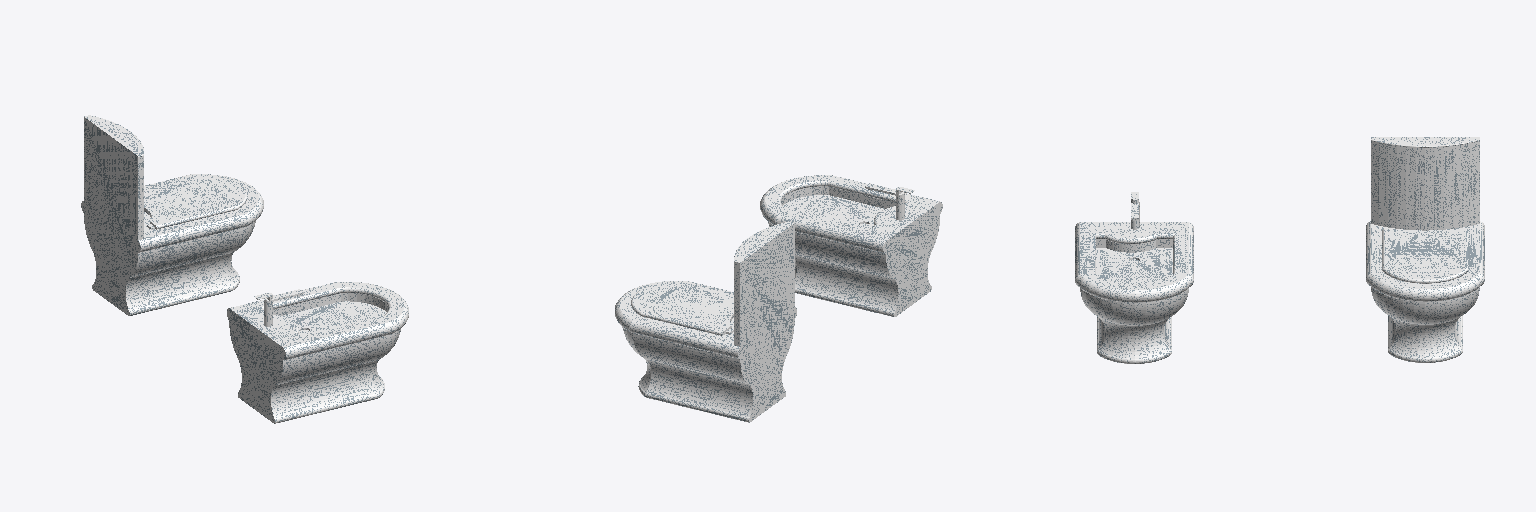
Rendered from gabinetto.obj.
The picture shows the model from 3 angles: view 1: azimuth 30°, elevation 25°; view 2: azimuth 150°, elevation 25°; view 3: azimuth 270°, elevation 25°; orthographic projection.
Parts seen in each view (by area): view 1: Mesh19 Group1 Model, Mesh37 Componente_1_1 Model; view 2: Mesh19 Group1 Model, Mesh37 Componente_1_1 Model; view 3: Mesh19 Group1 Model, Mesh37 Componente_1_1 Model.
Part boxes in pixels (left/top/right/bottom): Mesh19 Group1 Model: left=81, top=115, right=263, bottom=315; Mesh37 Componente_1_1 Model: left=227, top=282, right=408, bottom=423; Mesh19 Group1 Model: left=615, top=222, right=796, bottom=422; Mesh37 Componente_1_1 Model: left=760, top=175, right=942, bottom=316; Mesh19 Group1 Model: left=1366, top=137, right=1484, bottom=362; Mesh37 Componente_1_1 Model: left=1075, top=222, right=1193, bottom=363.
Bounding box in the file's own units: 0.7575 × 0.8386 × 1.86.